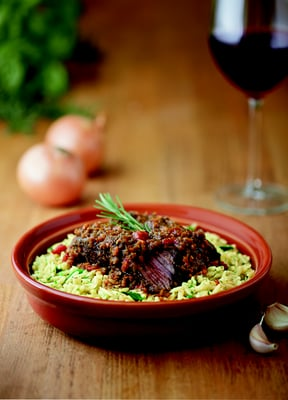sushi: (13, 197, 273, 341)
